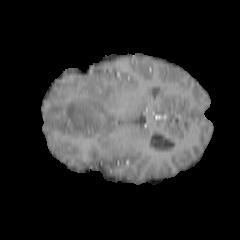glioma: (45, 82, 115, 130)
